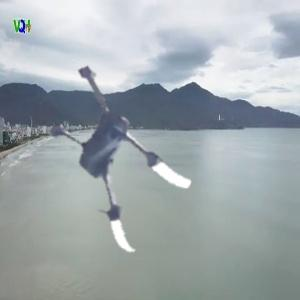drone: (25, 59, 219, 253)
